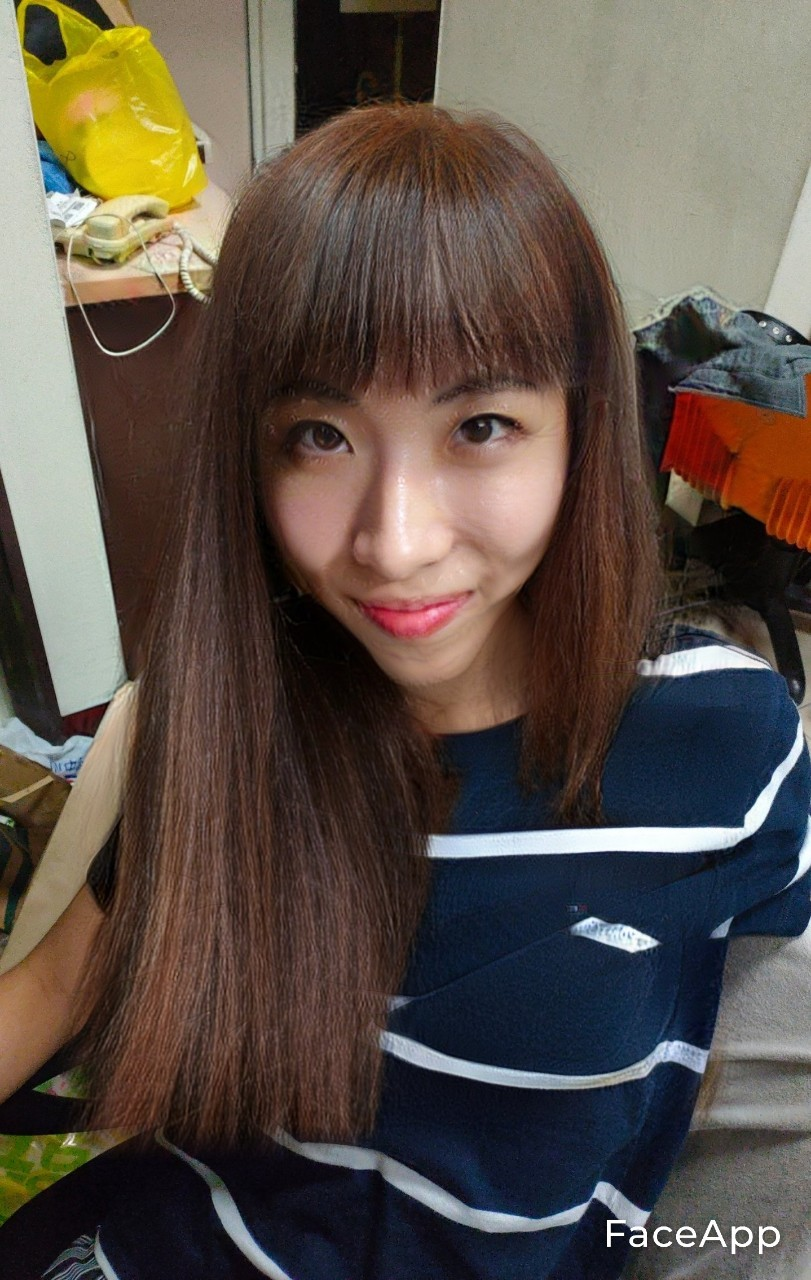people: (110, 102, 744, 1223)
